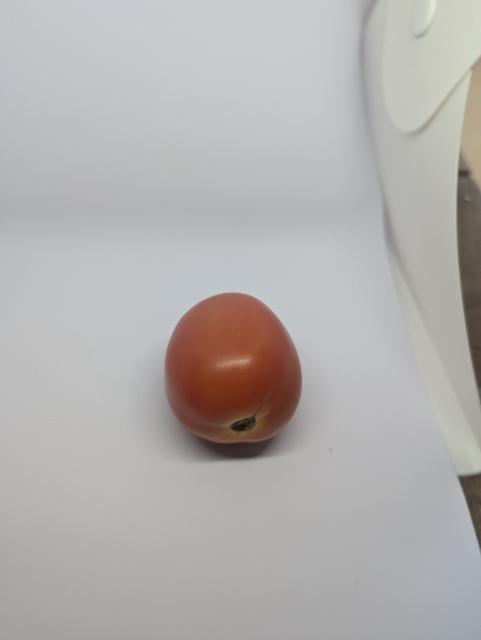red: (143, 275, 313, 469)
